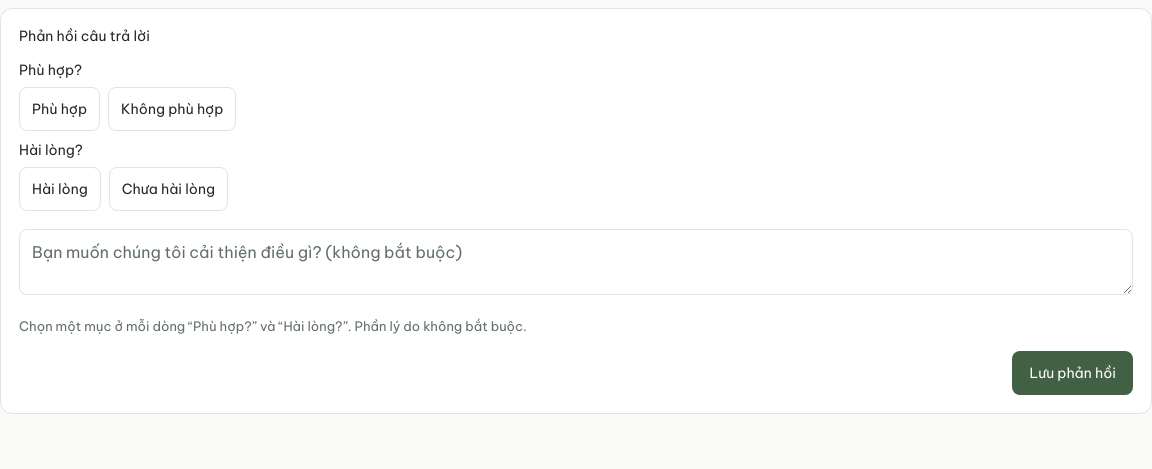
Test: G6 account workspace › explains incomplete feedback instead of leaving a silent disabled save button
Click the button "Không phù hợp" at (172, 109), box [108,87,236,131]
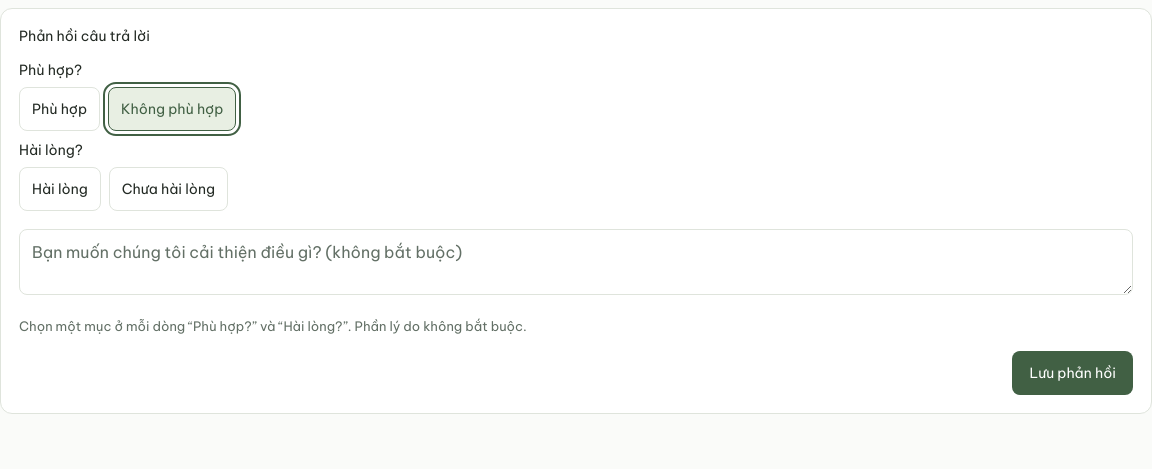
Type "chưa phù hợp" into the text box named "Lý do phản hồi" at (576, 262), box [19,229,1133,295]
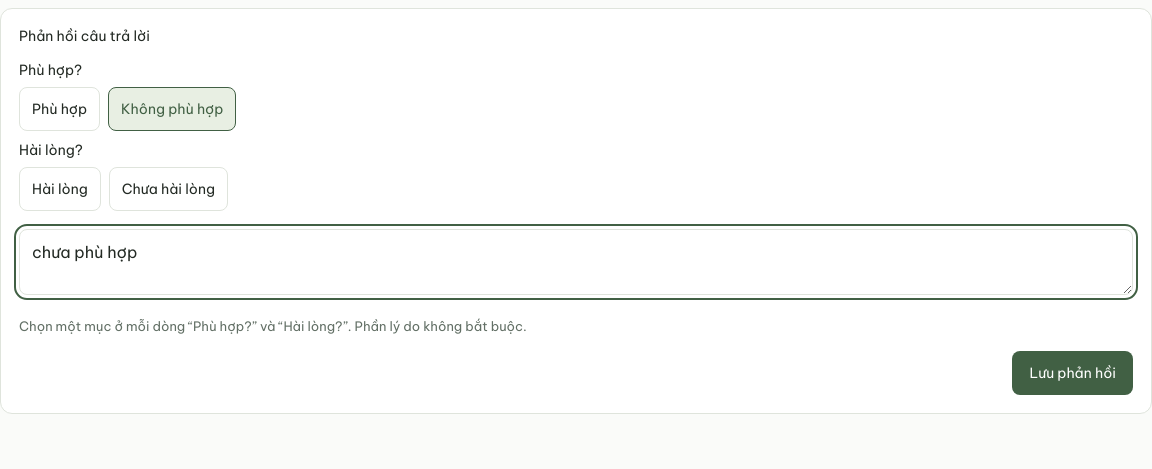
Click the button "Lưu phản hồi" at (1073, 373), box [1012,351,1133,395]
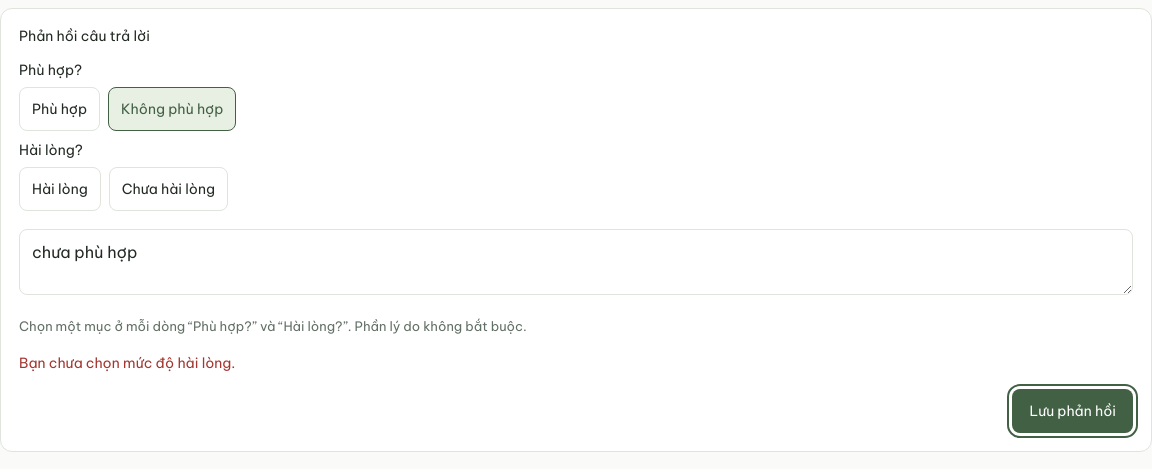
Expected: the message shows "chưa chọn mức độ hài lòng", [19,354,235,372]
